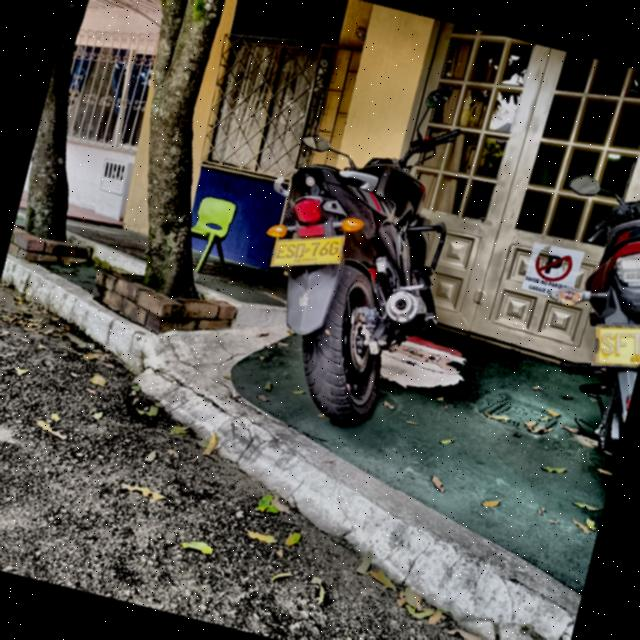plate: (270, 236, 343, 265)
